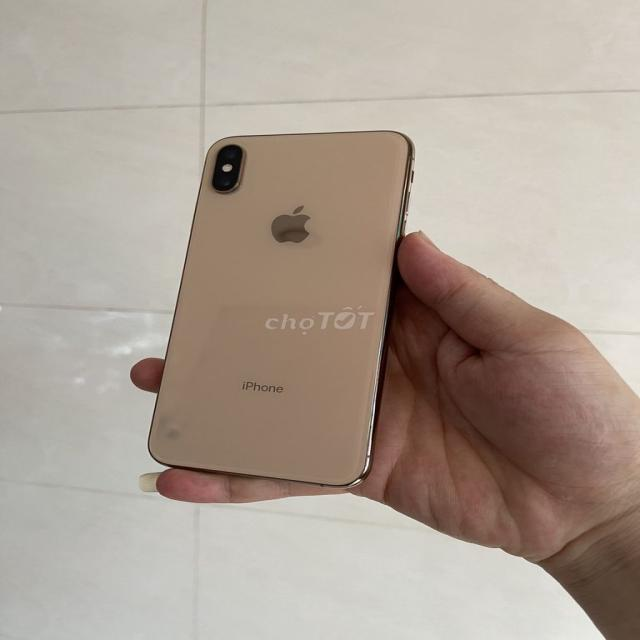scratch: (133, 412, 204, 453)
